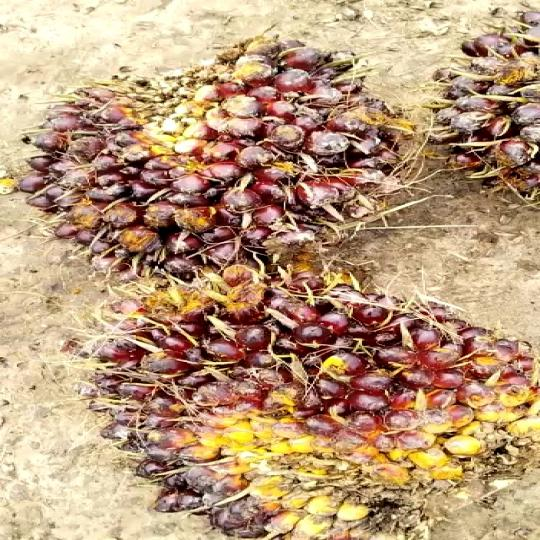kurang masak: (75, 264, 540, 540), (0, 34, 431, 264)
